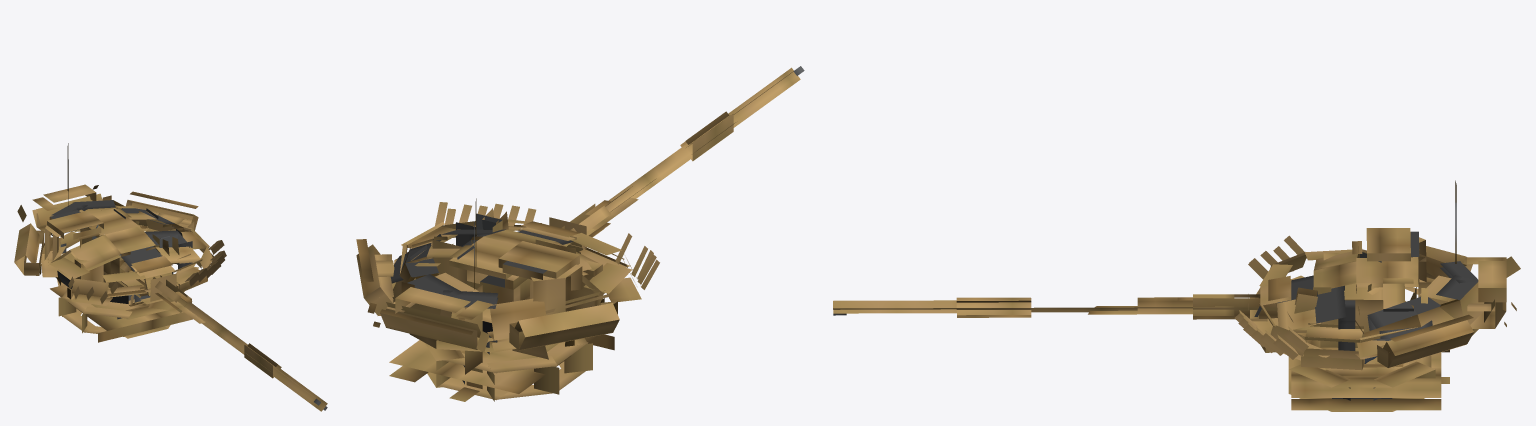
Rendered from ver_a_turret72.obj.
3 views of the same model, side by side, from view 1: azimuth 30°, elevation 25°; view 2: azimuth 150°, elevation 25°; view 3: azimuth 270°, elevation 25° (orthographic). The views are drawn at different scales.
Parts seen in each view (by area): view 1: turret, gun; view 2: turret, gun; view 3: turret, gun.
Part boxes in pixels (left/top/right/bottom): turret: left=14, top=143, right=226, bottom=342; gun: left=119, top=256, right=327, bottom=411; turret: left=356, top=198, right=659, bottom=401; gun: left=520, top=66, right=804, bottom=253; turret: left=1234, top=180, right=1520, bottom=411; gun: left=833, top=276, right=1291, bottom=321.
Bounding box in the file's own units: 3.51 × 5 × 8.74.
